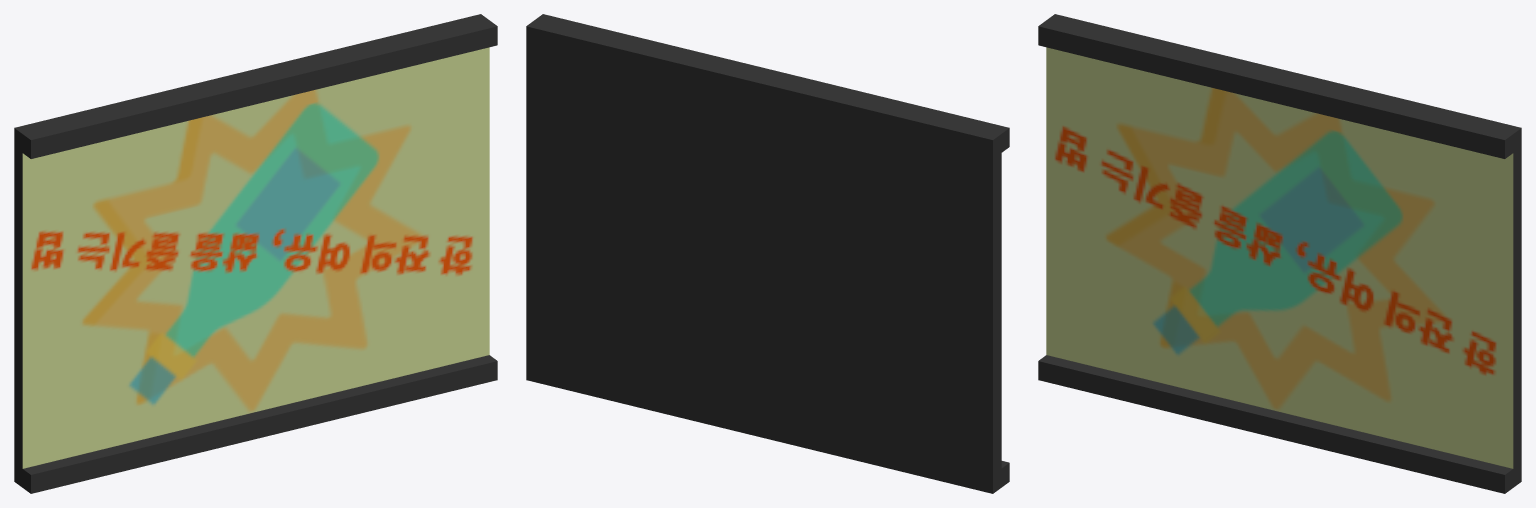
The model's file is B02_Enseigne_A_03.fbx.
The picture shows the model from 3 angles, left to right: view 1: azimuth 30°, elevation 25°; view 2: azimuth 150°, elevation 25°; view 3: azimuth 330°, elevation 25°; orthographic projection.
Visible parts, largest first — view 1: B02_Enseigne_A_03; view 2: B02_Enseigne_A_03; view 3: B02_Enseigne_A_03.
Part boxes in pixels (<box>): B02_Enseigne_A_03: <box>14,14,497,493</box>; B02_Enseigne_A_03: <box>526,14,1009,493</box>; B02_Enseigne_A_03: <box>1038,14,1521,493</box>.
Size of the model in its own units: 389 by 282 by 24.32.
